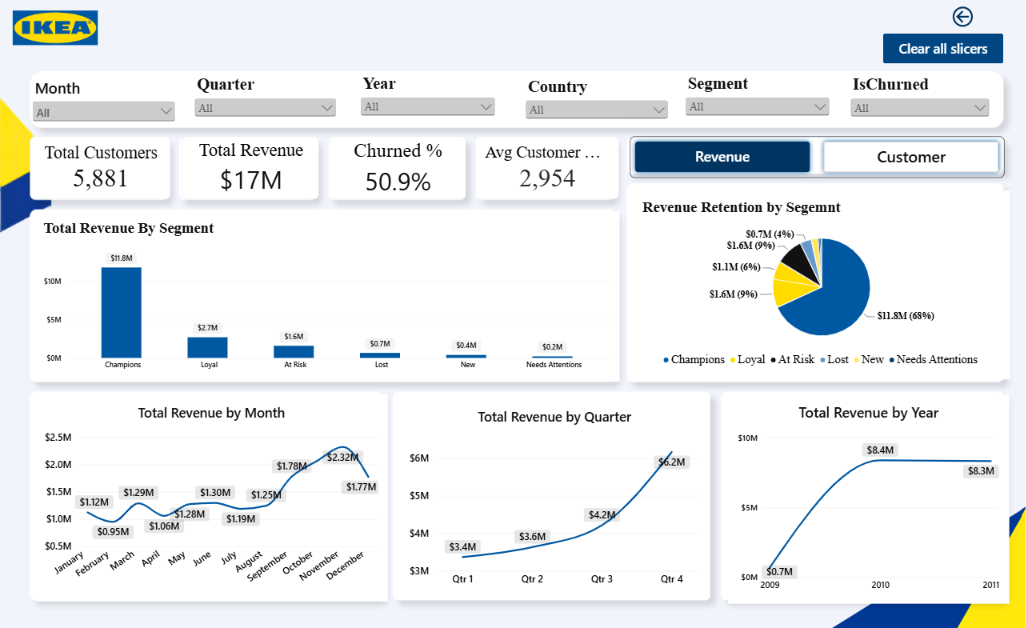

The page's visual inventory and layout, read from the dashboard file:
{"tool":"powerbi","page":{"name":"Overview","canvas":[1750,1100],"ordinal":1},"visuals":[{"type":"cardVisual","fields":{"Data":["Sheet1.Total Customers"]},"box":[51,249,239.2,107.8],"z":0},{"type":"pieChart","title":"Revenue Retention by Segemnt","fields":{"Category":["Sheet1.Segment"],"Series":["Sheet1.IsChurned"],"Y":["Sheet1.Total Revenue"]},"box":[1076.7,339.4,641.5,322],"z":0,"group":"g1"},{"type":"cardVisual","fields":{"Data":["Sheet1.Total Revenue"]},"box":[309.5,248.3,233.3,107.8],"z":1000},{"type":"columnChart","title":"Total Revenue By Segment","fields":{"Category":["Sheet1.Segment"],"Y":["Sheet1.Total Revenue"]},"box":[58.5,375,995.7,289.8],"z":1000,"group":"g1"},{"type":"cardVisual","fields":{"Data":["Sheet1.Churned %"]},"box":[558.8,249,233.3,107.8],"z":2000},{"type":"lineChart","title":"Total Revenue by Year","fields":{"Category":["Sheet1.InvoiceMonth.Variation.Date Hierarchy.Year"],"Y":["Sheet1.Total Revenue"]},"box":[1239,685.8,478,355.6],"z":2000,"group":"g1"},{"type":"cardVisual","fields":{"Data":["Sheet1.Avg Customer Value"]},"box":[807.8,249,245.1,107.8],"z":3000},{"type":"lineChart","title":"Total Revenue by Quarter","fields":{"Category":["Sheet1.InvoiceMonth.Variation.Date Hierarchy.Quarter"],"Y":["Sheet1.Total Revenue"]},"box":[681.8,693.7,525.6,339.8],"z":3000,"group":"g1"},{"type":"lineChart","title":"Total Revenue by Month","fields":{"Category":["Sheet1.InvoiceMonth.Variation.Date Hierarchy.Month"],"Y":["Sheet1.Total Revenue"]},"box":[60.7,685.7,600.3,352.2],"z":4000,"group":"g1"},{"type":"slicer","fields":{"Values":["Sheet1.InvoiceDate.Variation.Date Hierarchy.Quarter"]},"box":[326.5,144.6,250,103.7],"z":5000},{"type":"slicer","fields":{"Values":["Sheet1.InvoiceDate.Variation.Date Hierarchy.Year"]},"box":[608.8,142.9,238.1,93.5],"z":6000},{"type":"slicer","fields":{"Values":["Sheet1.Country"]},"box":[889.5,148,251.7,85],"z":7000},{"type":"slicer","fields":{"Values":["Sheet1.Segment"]},"box":[1161.6,142.9,253.4,96.9],"z":8000},{"type":"slicer","fields":{"Values":["Sheet1.IsChurned"]},"box":[1442.2,144.6,244.9,83.3],"z":9000},{"type":"group","id":"g1","title":"Revenue","box":[58.5,339.4,1659.7,702],"z":11000},{"type":"bookmarkNavigator","box":[1070.7,248.8,636.6,70.7],"z":12000},{"type":"image","box":[0,0,187.8,126.8],"z":13000},{"type":"textbox","box":[2,708,600,352],"z":14000},{"type":"textbox","box":[621,708,529,352],"z":15000},{"type":"textbox","box":[1181,708,478,352],"z":16000},{"type":"textbox","box":[100,100,300,300],"z":17000},{"type":"textbox","box":[100,100,300,300],"z":18000},{"type":"textbox","box":[1450.7,1085,299.3,15.3],"z":19000},{"type":"actionButton","box":[1575.6,9.8,124.4,68.3],"z":22000},{"type":"actionButton","box":[1502.2,73.3,204.9,51.2],"z":23000},{"type":"slicer","fields":{"Values":["Sheet1.InvoiceMonth.Variation.Date Hierarchy.Month"]},"box":[51,148,251.7,88.4],"z":23001}]}

Visuals, with their boxes in screenshot pixels (x1, y1, x2, y2), scaled from the page's 1750x1100 canvas onto the 1026x628 screenshot:
cardVisual - Sheet1.Total Customers: (x1=30, y1=142, x2=170, y2=204)
"Revenue Retention by Segemnt" pieChart: (x1=631, y1=194, x2=1007, y2=378)
cardVisual - Sheet1.Total Revenue: (x1=181, y1=142, x2=318, y2=203)
"Total Revenue By Segment" columnChart: (x1=34, y1=214, x2=618, y2=380)
cardVisual - Sheet1.Churned %: (x1=328, y1=142, x2=464, y2=204)
"Total Revenue by Year" lineChart: (x1=726, y1=392, x2=1007, y2=595)
cardVisual - Sheet1.Avg Customer Value: (x1=474, y1=142, x2=617, y2=204)
"Total Revenue by Quarter" lineChart: (x1=400, y1=396, x2=708, y2=590)
"Total Revenue by Month" lineChart: (x1=36, y1=391, x2=388, y2=593)
slicer - Sheet1.InvoiceDate.Variation.Date Hierarchy.Quarter: (x1=191, y1=83, x2=338, y2=142)
slicer - Sheet1.InvoiceDate.Variation.Date Hierarchy.Year: (x1=357, y1=82, x2=497, y2=135)
slicer - Sheet1.Country: (x1=522, y1=84, x2=669, y2=133)
slicer - Sheet1.Segment: (x1=681, y1=82, x2=830, y2=137)
slicer - Sheet1.IsChurned: (x1=846, y1=83, x2=989, y2=130)
"Revenue" group: (x1=34, y1=194, x2=1007, y2=595)
bookmarkNavigator: (x1=628, y1=142, x2=1001, y2=182)
image: (x1=0, y1=0, x2=110, y2=72)
textbox: (x1=1, y1=404, x2=353, y2=605)
textbox: (x1=364, y1=404, x2=674, y2=605)
textbox: (x1=692, y1=404, x2=973, y2=605)
textbox: (x1=59, y1=57, x2=235, y2=228)
textbox: (x1=59, y1=57, x2=235, y2=228)
textbox: (x1=851, y1=619, x2=1025, y2=627)
actionButton: (x1=924, y1=6, x2=997, y2=45)
actionButton: (x1=881, y1=42, x2=1001, y2=71)
slicer - Sheet1.InvoiceMonth.Variation.Date Hierarchy.Month: (x1=30, y1=84, x2=177, y2=135)
